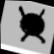not correct: (10, 1, 54, 48)
